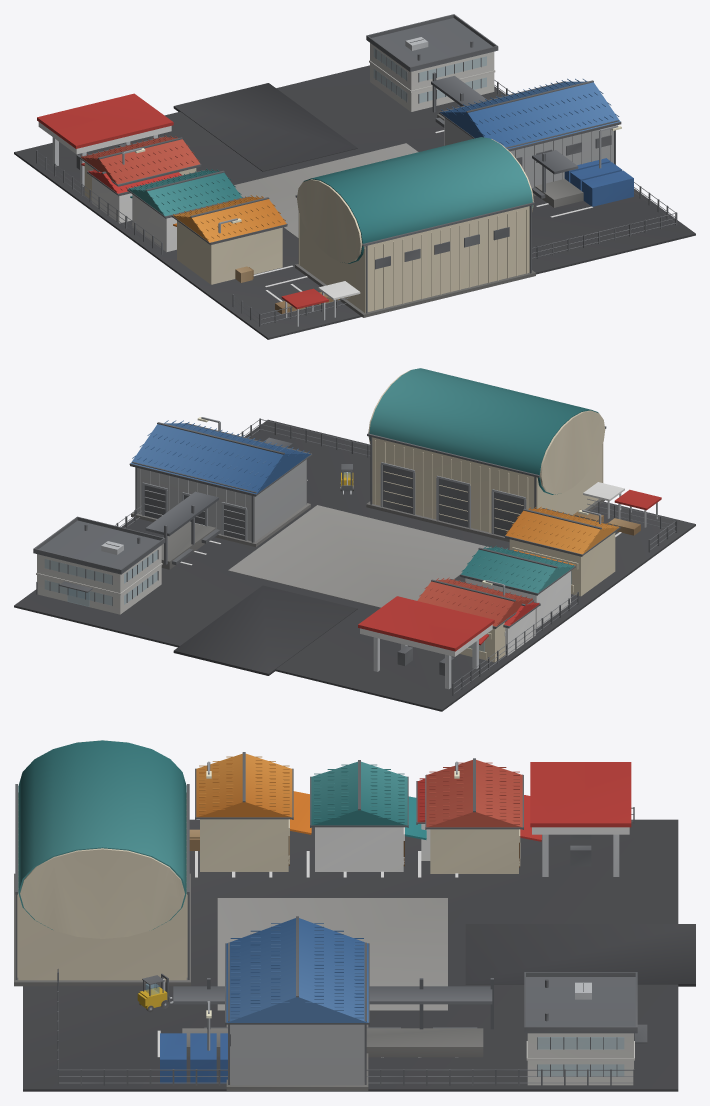
The model's file is Market_P2.fbx.
3 renders of one model, top to bottom at view 1: azimuth 30°, elevation 25°; view 2: azimuth 150°, elevation 25°; view 3: azimuth 270°, elevation 25°, orthographic. The views are drawn at different scales.
Parts seen in each view (by area): view 1: Market.Pad, Market.WH1, Market.WH2, Market.Office, Market.Shop2, Market.Fuel, Market.Shop1, Market.Shop0, Market.Dock, Market.Fence, Market.Goods, Market.FuelShop (+1 smaller); view 2: Market.Pad, Market.WH1, Market.WH2, Market.Office, Market.Fuel, Market.Shop2, Market.Shop1, Market.Shop0, Market.Dock, Market.Fence, Market.Stalls, Market.FuelShop; view 3: Market.Pad, Market.WH1, Market.WH2, Market.Office, Market.Shop2, Market.Shop0, Market.Shop1, Market.Fuel, Market.Dock, Market.Goods, Market.Fence, Market.Fork0 (+1 smaller).
Boxes of the visible parts, left/top/right/bottom form: Market.Pad: left=14, top=65, right=695, bottom=339; Market.WH1: left=295, top=137, right=535, bottom=317; Market.WH2: left=439, top=78, right=621, bottom=196; Market.Office: left=366, top=14, right=498, bottom=111; Market.Shop2: left=171, top=195, right=287, bottom=284; Market.Fuel: left=37, top=93, right=173, bottom=186; Market.Shop1: left=127, top=168, right=242, bottom=251; Market.Shop0: left=79, top=135, right=201, bottom=199; Market.Dock: left=431, top=72, right=583, bottom=207; Market.Fence: left=36, top=80, right=677, bottom=326; Market.Goods: left=235, top=158, right=633, bottom=282; Market.FuelShop: left=87, top=169, right=181, bottom=223; Market.Pad: left=14, top=419, right=695, bottom=711; Market.WH1: left=366, top=368, right=606, bottom=541; Market.WH2: left=129, top=420, right=312, bottom=547; Market.Office: left=33, top=516, right=165, bottom=614; Market.Fuel: left=358, top=596, right=494, bottom=689; Market.Shop2: left=504, top=506, right=620, bottom=596; Market.Shop1: left=460, top=545, right=575, bottom=628; Market.Shop0: left=417, top=577, right=534, bottom=662; Market.Dock: left=145, top=437, right=292, bottom=569; Market.Fence: left=36, top=418, right=677, bottom=696; Market.Stalls: left=573, top=482, right=661, bottom=535; Market.FuelShop: left=503, top=601, right=540, bottom=655; Market.Pad: left=23, top=819, right=695, bottom=1091; Market.WH1: left=14, top=740, right=190, bottom=986; Market.WH2: left=225, top=916, right=369, bottom=1090; Market.Office: left=524, top=972, right=647, bottom=1085; Market.Shop2: left=195, top=752, right=311, bottom=871; Market.Shop0: left=425, top=758, right=541, bottom=873; Market.Shop1: left=310, top=760, right=426, bottom=871; Market.Fuel: left=530, top=762, right=631, bottom=876; Market.Dock: left=173, top=978, right=493, bottom=1057; Market.Goods: left=160, top=829, right=227, bottom=1083; Market.Fence: left=57, top=807, right=634, bottom=1085; Market.Fork0: left=137, top=973, right=173, bottom=1012.
Bounding box in the file's own units: 7267 × 1751 × 7700.
